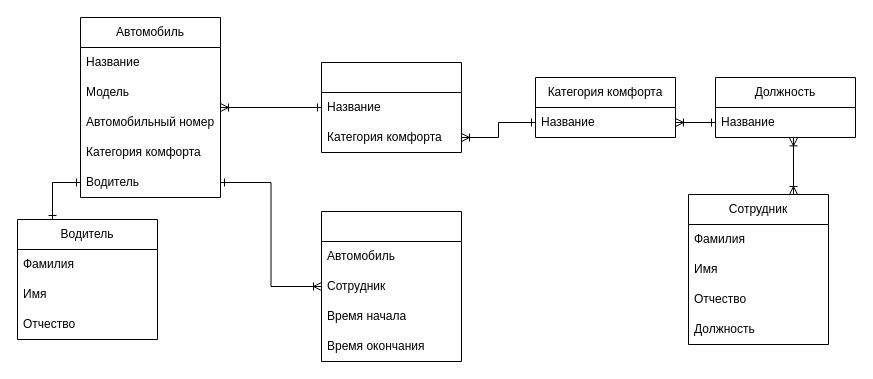
Some shapes in this 873 by 379 pixel diagram are drawn without their labels. The box of each missing label's shape, as (x1, y1, x2, y2) in pixels:
Бронирование: (320, 210, 462, 362)
Модель автомобиля: (320, 62, 462, 152)
